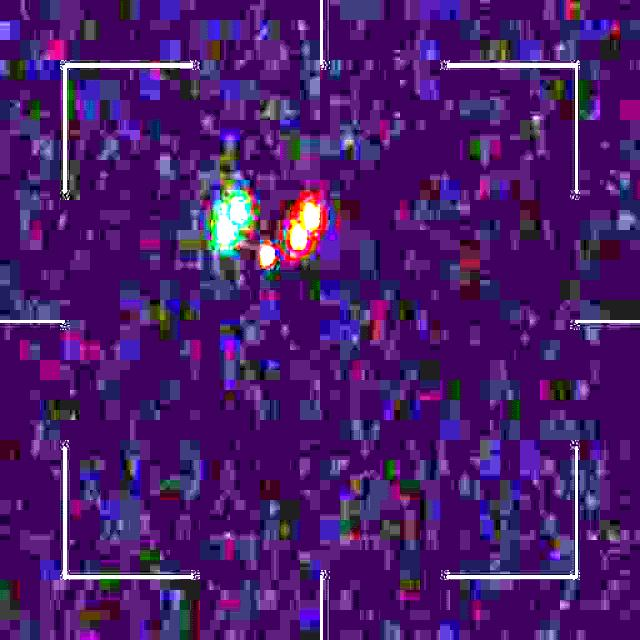bird: (219, 199, 318, 272)
